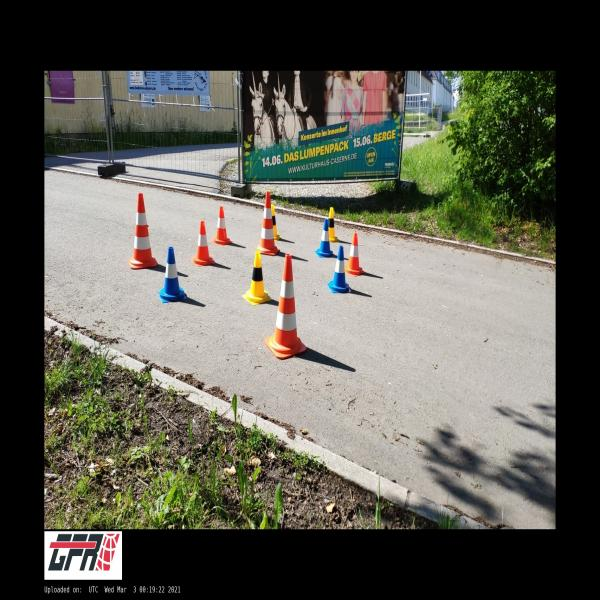blue_cone: (158, 247, 186, 303), (327, 246, 352, 293), (314, 219, 335, 258)
large_orange_cone: (264, 254, 306, 359), (128, 193, 158, 270), (257, 191, 280, 256)
orange_cone: (191, 221, 215, 266), (344, 232, 366, 276), (211, 206, 233, 246)
yellow_cone: (242, 251, 271, 305), (328, 207, 340, 243), (325, 207, 338, 240), (271, 204, 281, 241)
